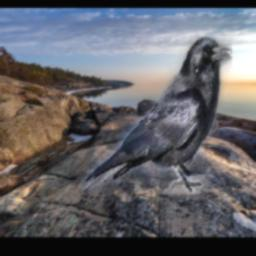Crow: (82, 37, 233, 194)
